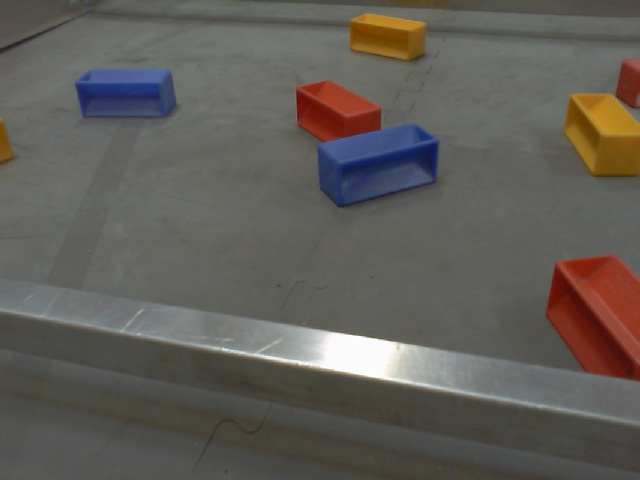BlueSample: (312, 122, 444, 210), (72, 64, 178, 122)
RedSample: (541, 247, 640, 382), (292, 76, 383, 146), (613, 58, 640, 111)
YellowSample: (560, 88, 640, 182), (344, 10, 429, 64)
